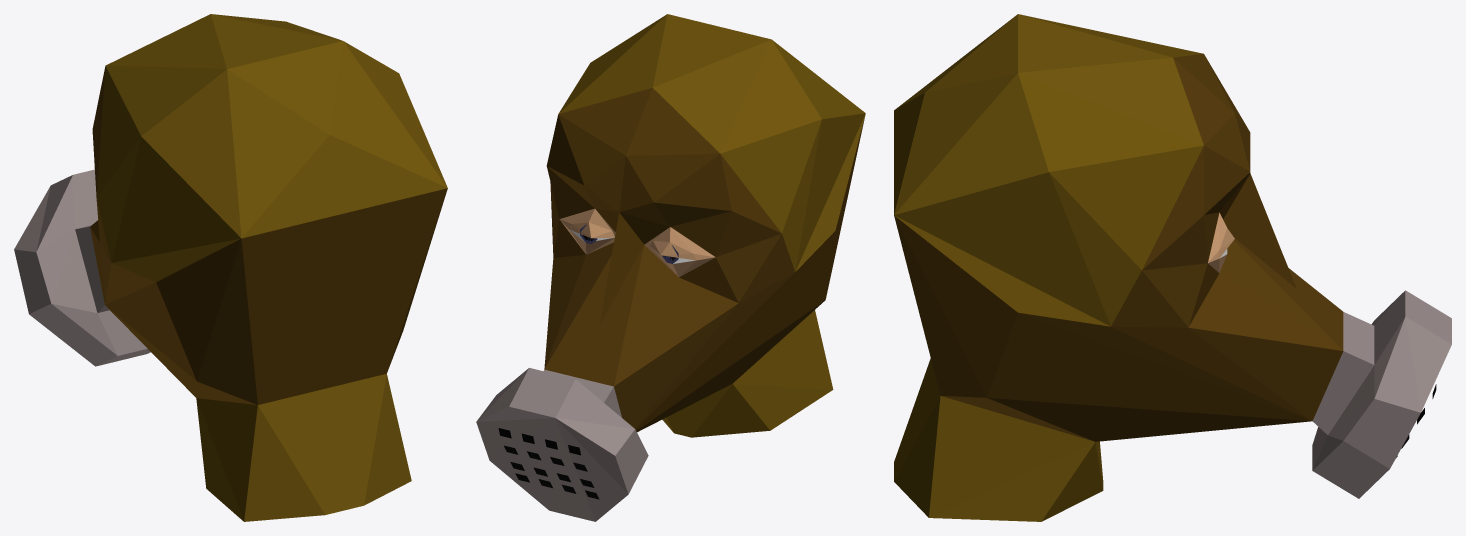
Rendered from itm_model_headA_gas_mask.obj.
The picture shows the model from 3 angles, left to right: view 1: azimuth 30°, elevation 25°; view 2: azimuth 150°, elevation 25°; view 3: azimuth 270°, elevation 25°; orthographic projection. The views are drawn at different scales.
Size of the model in its own units: 0.625 by 0.9844 by 1.12.
